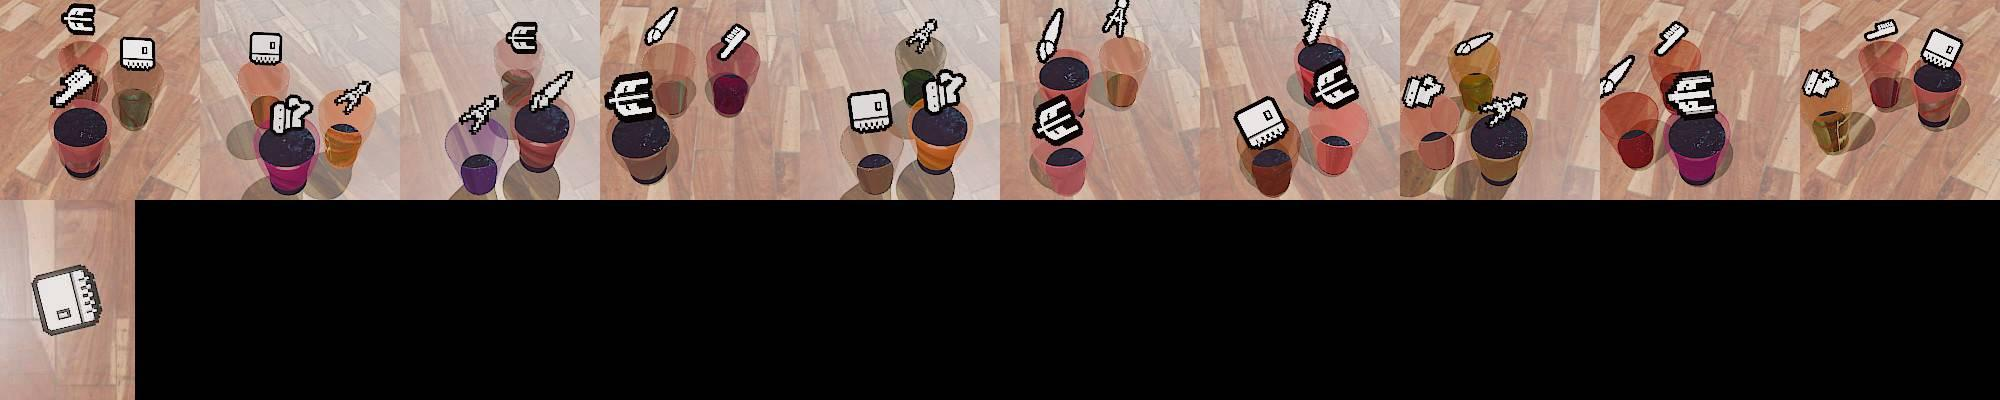icon: (29, 262, 105, 336), (1232, 94, 1288, 152), (603, 69, 658, 120), (1032, 93, 1082, 146), (1665, 69, 1718, 117), (1311, 61, 1360, 112), (847, 89, 893, 136), (50, 66, 98, 110), (923, 66, 966, 116), (528, 69, 574, 113), (1918, 27, 1962, 71), (270, 93, 315, 136), (1478, 90, 1529, 126), (1598, 54, 1635, 99), (1036, 8, 1064, 68), (460, 93, 499, 132), (643, 5, 679, 47), (1300, 0, 1332, 46), (1403, 73, 1443, 110), (333, 79, 372, 116), (1653, 19, 1689, 59), (717, 22, 750, 62), (119, 36, 156, 71), (61, 3, 97, 37), (1800, 68, 1839, 98), (249, 32, 283, 66), (907, 17, 937, 55), (506, 20, 540, 55), (1102, 0, 1130, 39), (1454, 31, 1494, 56), (1864, 18, 1898, 43)
